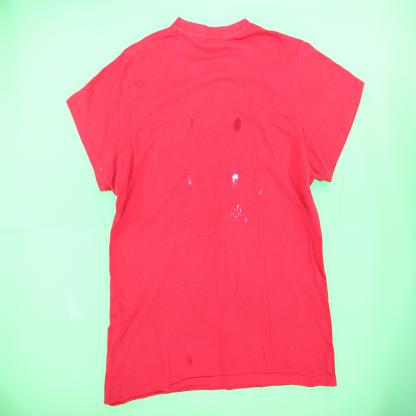hole: (185, 352, 195, 369)
stain: (228, 202, 252, 227), (185, 171, 197, 198), (230, 170, 240, 191), (187, 110, 197, 130), (233, 116, 242, 132), (258, 188, 264, 196)
